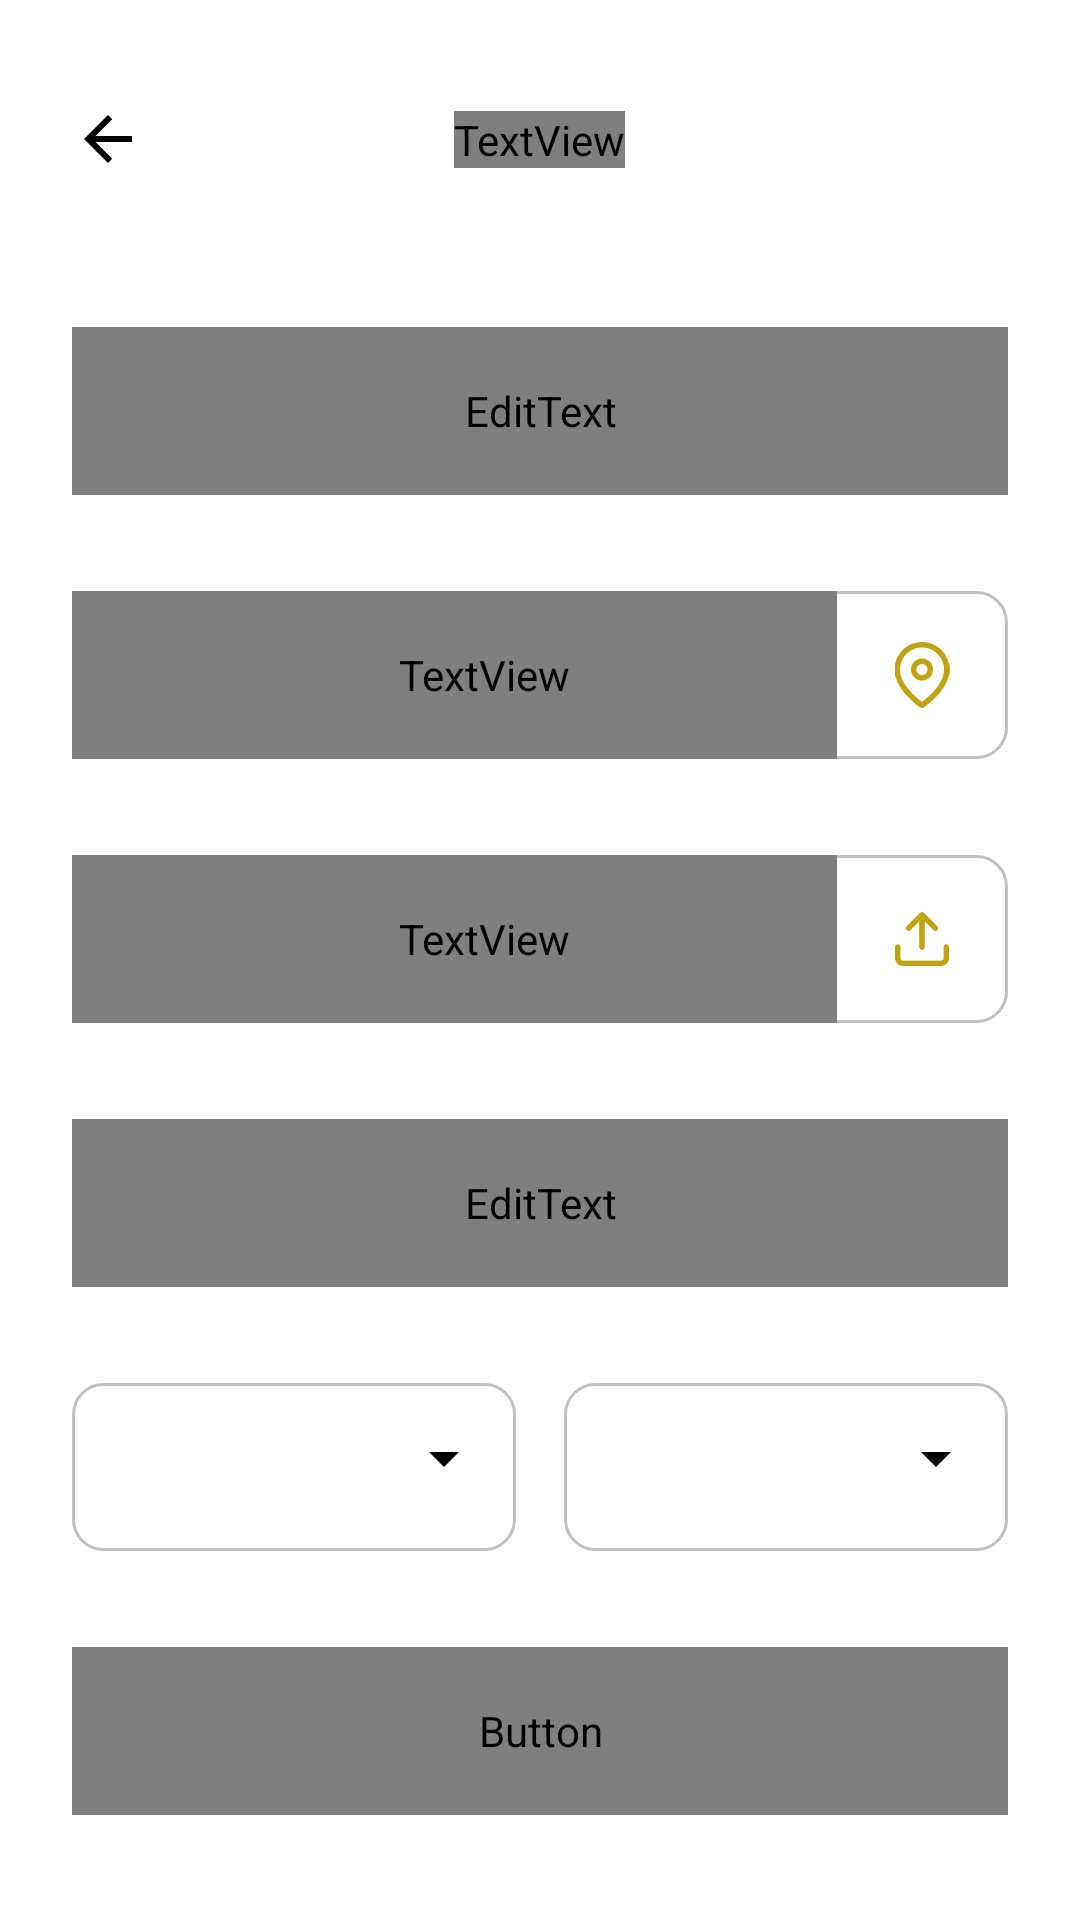

Where icons sit on this 1080*1920 app screen, as (x1, y1, x2, y2):
arrow back: (84, 115, 132, 163)
